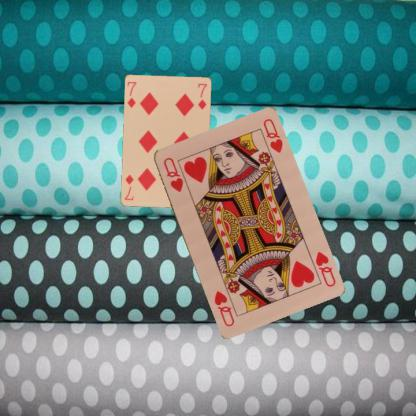7d: (125, 79, 138, 109)
Qh: (312, 248, 337, 288), (160, 154, 184, 194)
